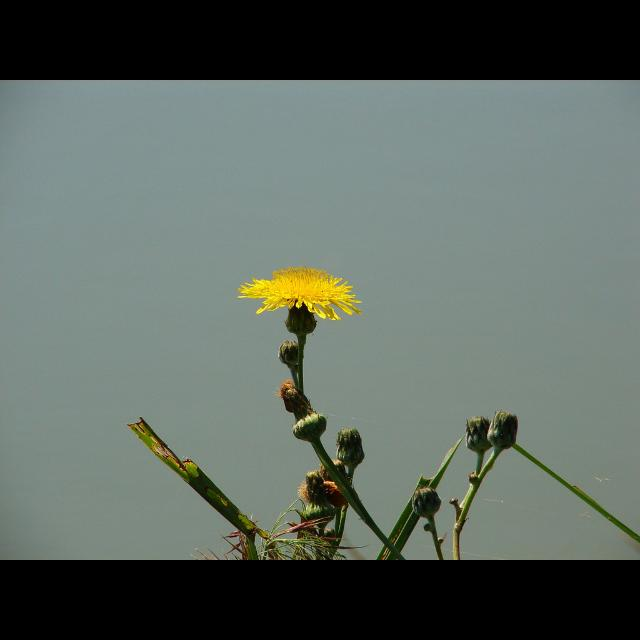Flower: (232, 258, 356, 332)
